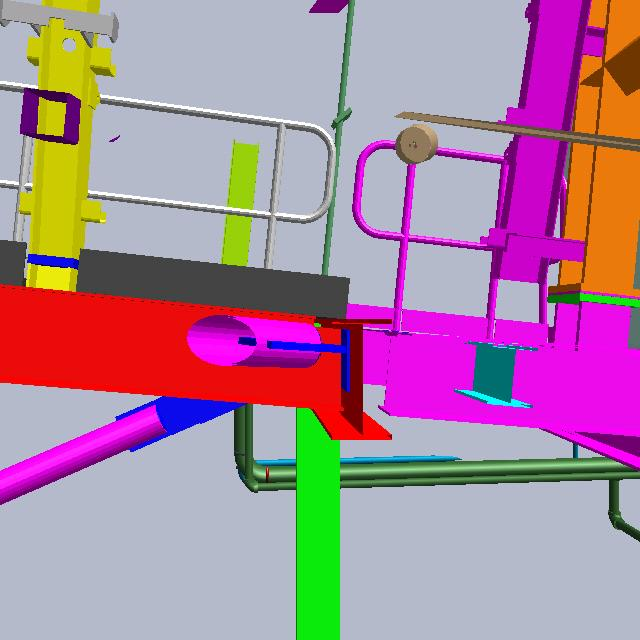Poste: (302, 1, 368, 325)
Soporte: (206, 135, 262, 325)
